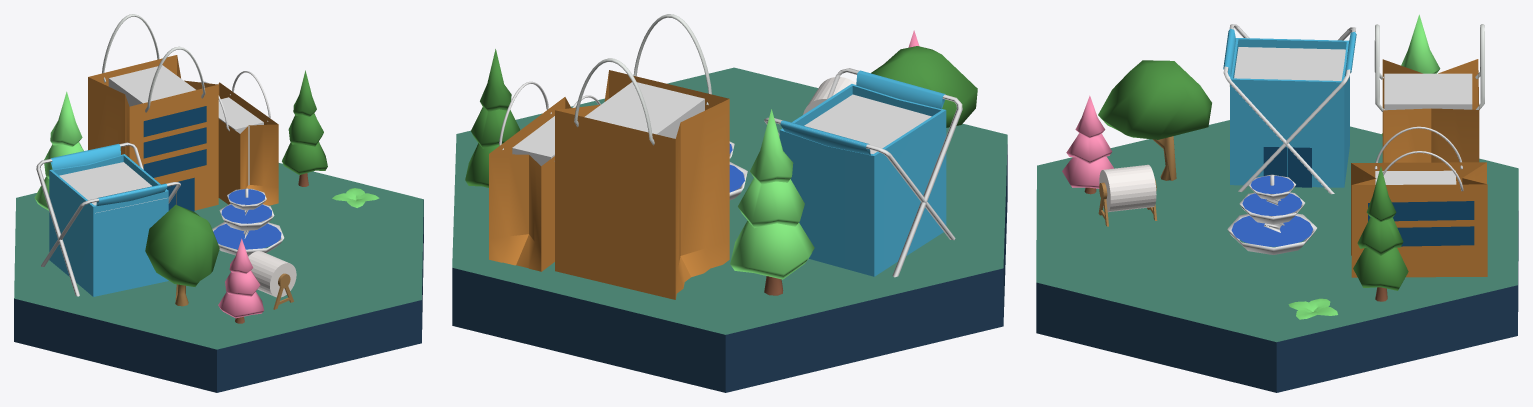
File: Macro - Shop lvl 2 WM2.fbx
3 renders of one model, left to right at view 1: azimuth 30°, elevation 25°; view 2: azimuth 150°, elevation 25°; view 3: azimuth 270°, elevation 25°, orthographic. The views are drawn at different scales.
Visible parts, largest first — view 1: Cylinder.179, bathroom_item_001.001, Circle.006, Circle.005, tree1 v:88 f:56, Cube.018, Tree_Spruce_tiny_01.007, Plane.122, Tree_Spruce_tiny_01.001, Cube.138, Tree_Spruce_tiny_01.005, Cylinder.011 (+6 smaller); view 2: Cylinder.179, Circle.006, bathroom_item_001.001, Circle.005, Tree_Spruce_tiny_01.005, Cube.138, Plane.122, tree1 v:88 f:56, Tree_Spruce_tiny_01.007, Cube.139, Cylinder.011, Cube.018; view 3: Cylinder.179, bathroom_item_001.001, Circle.005, tree1 v:88 f:56, Circle.006, Cube.018, Tree_Spruce_tiny_01.007, Plane.122, Cube.138, Tree_Spruce_tiny_01.001, Cylinder.011, Plane.004 (+6 smaller).
Boxes of the visible parts, x1,y1,x2,y2 form: Cylinder.179: [14, 163, 423, 392]; bathroom_item_001.001: [36, 142, 180, 296]; Circle.006: [88, 14, 218, 210]; Circle.005: [200, 71, 278, 205]; tree1 v:88 f:56: [145, 204, 219, 306]; Cube.018: [212, 188, 284, 256]; Tree_Spruce_tiny_01.007: [282, 70, 327, 186]; Plane.122: [59, 162, 166, 213]; Tree_Spruce_tiny_01.001: [218, 238, 264, 323]; Cube.138: [108, 65, 195, 106]; Tree_Spruce_tiny_01.005: [34, 91, 83, 210]; Cylinder.011: [248, 251, 296, 297]; Cylinder.179: [452, 67, 1007, 392]; Circle.006: [555, 14, 729, 299]; bathroom_item_001.001: [764, 68, 962, 277]; Circle.005: [489, 81, 600, 271]; Tree_Spruce_tiny_01.005: [730, 109, 814, 295]; Cube.138: [584, 82, 704, 138]; Plane.122: [804, 94, 931, 153]; tree1 v:88 f:56: [871, 46, 977, 127]; Tree_Spruce_tiny_01.007: [465, 49, 520, 187]; Cube.139: [512, 116, 554, 165]; Cylinder.011: [803, 77, 856, 114]; Cube.018: [729, 141, 747, 200]; Cylinder.179: [1036, 120, 1518, 392]; bathroom_item_001.001: [1223, 24, 1356, 194]; Circle.005: [1351, 126, 1487, 277]; tree1 v:88 f:56: [1098, 60, 1211, 180]; Circle.006: [1374, 24, 1484, 162]; Cube.018: [1227, 174, 1316, 254]; Tree_Spruce_tiny_01.007: [1353, 166, 1408, 301]; Plane.122: [1229, 47, 1345, 86]; Cube.138: [1384, 73, 1472, 110]; Tree_Spruce_tiny_01.001: [1062, 95, 1113, 194]; Cylinder.011: [1099, 164, 1156, 212]; Plane.004: [1368, 201, 1474, 221].
Bounding box in the file's own units: 197 × 98.68 × 172.
